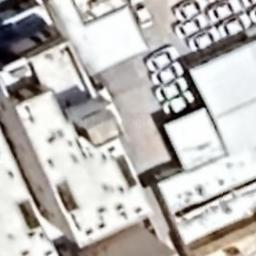sedan: (150, 76, 192, 102), (146, 60, 188, 85), (144, 42, 180, 69), (158, 92, 196, 114), (130, 0, 155, 30), (206, 0, 244, 18), (184, 30, 222, 48), (176, 17, 210, 35), (222, 14, 253, 33), (174, 0, 204, 18)
